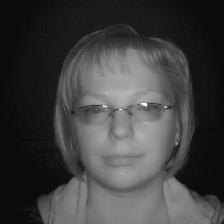normal: (47, 23, 205, 190)
